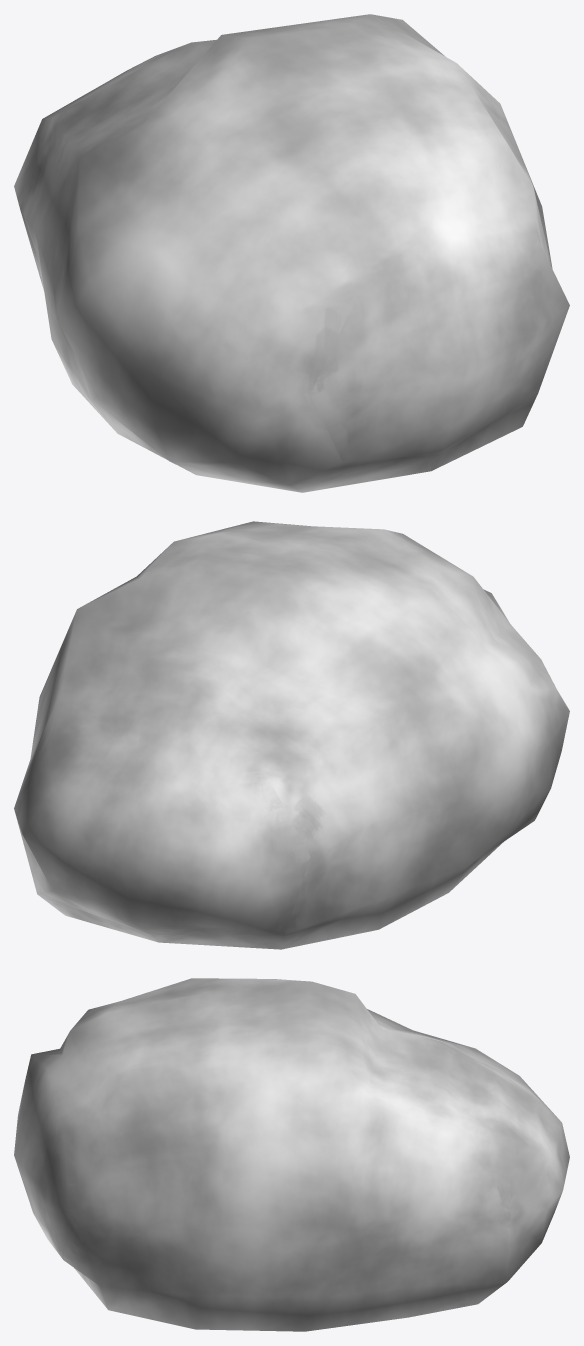
Rendered from Stone.FBX.
3 views of the same model, one above another, from view 1: azimuth 30°, elevation 25°; view 2: azimuth 150°, elevation 25°; view 3: azimuth 270°, elevation 25° (orthographic). The views are drawn at different scales.
Parts seen in each view (by area): view 1: Box001; view 2: Box001; view 3: Box001.
Part boxes in pixels (x1,y1,x2,y2): Box001: [14, 14, 569, 492]; Box001: [14, 521, 569, 949]; Box001: [14, 978, 569, 1331].
Size of the model in its own units: 39.61 by 28.12 by 50.14.
Materials: 1 (1 with a texture image).
